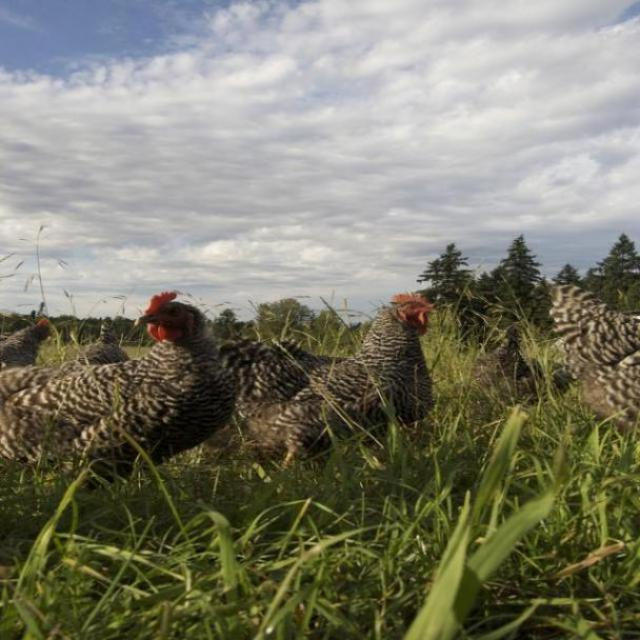Chicken: (24, 297, 253, 492), (213, 290, 443, 468), (544, 283, 639, 435), (457, 324, 545, 409), (62, 321, 147, 364), (0, 316, 60, 370)
